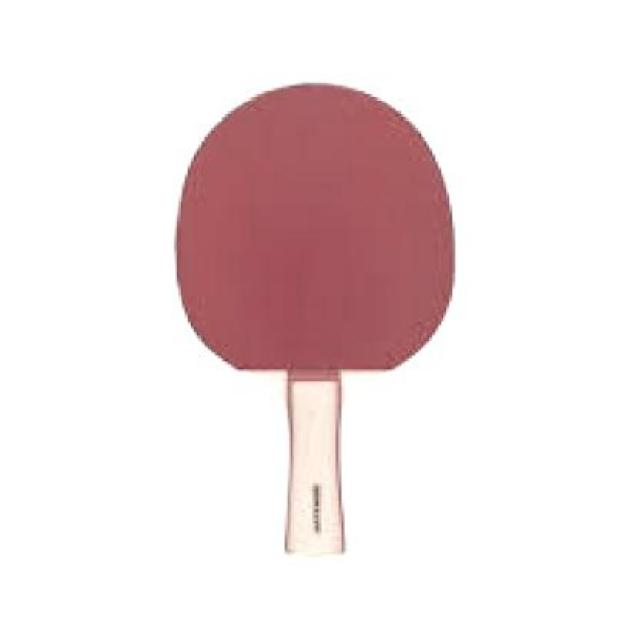table_tennis_racket: (168, 78, 460, 390)
